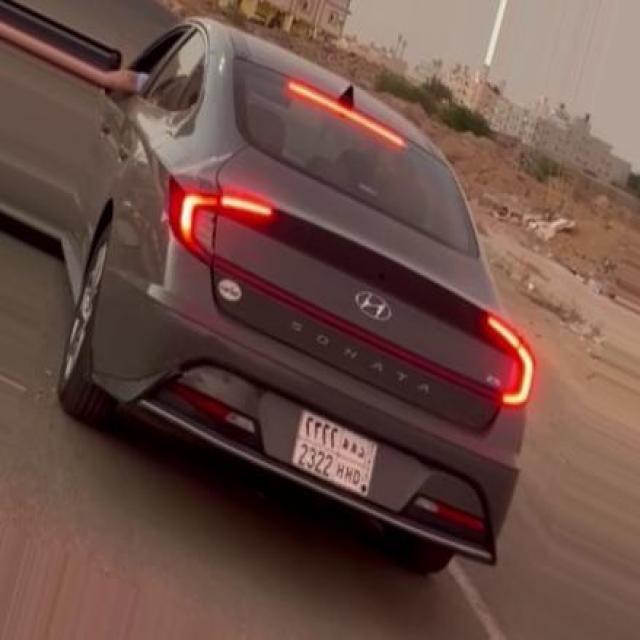Car-plate: (277, 395, 383, 502)
